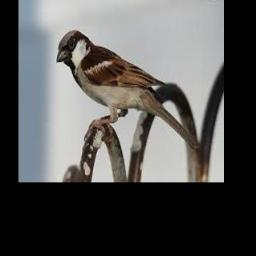Sparrow: (57, 31, 200, 152)
